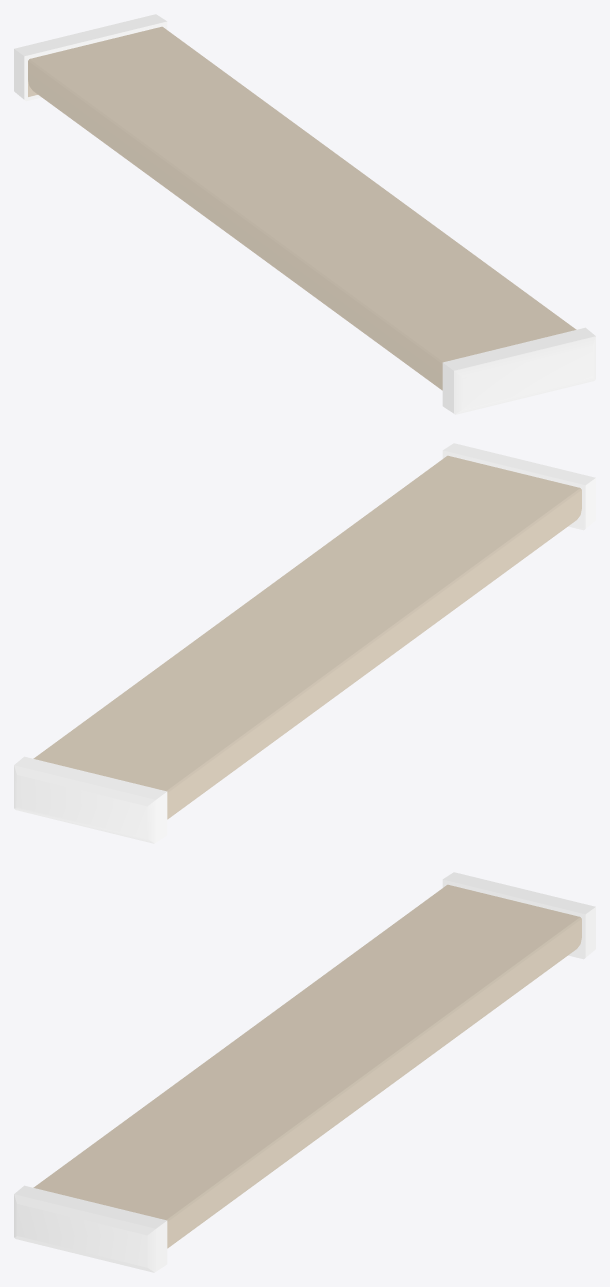
The model's file is FP308:LightFixture5_75bd0c80.obj.
The picture shows the model from 3 angles, top to bottom: view 1: azimuth 30°, elevation 25°; view 2: azimuth 150°, elevation 25°; view 3: azimuth 330°, elevation 25°; orthographic projection.
Visible parts, largest first — view 1: FP308:LightFixture5_75bd0c80; view 2: FP308:LightFixture5_75bd0c80; view 3: FP308:LightFixture5_75bd0c80.
Boxes of the visible parts, x1,y1,x2,y2 form: FP308:LightFixture5_75bd0c80: (14,14,595,414); FP308:LightFixture5_75bd0c80: (14,443,595,843); FP308:LightFixture5_75bd0c80: (14,872,595,1272).
Size of the model in its own units: 0.2995 by 0.091 by 1.62.
